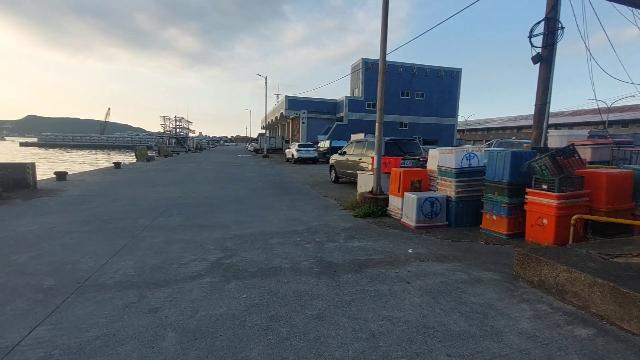pollute: (380, 127, 638, 248), (356, 170, 373, 199)
